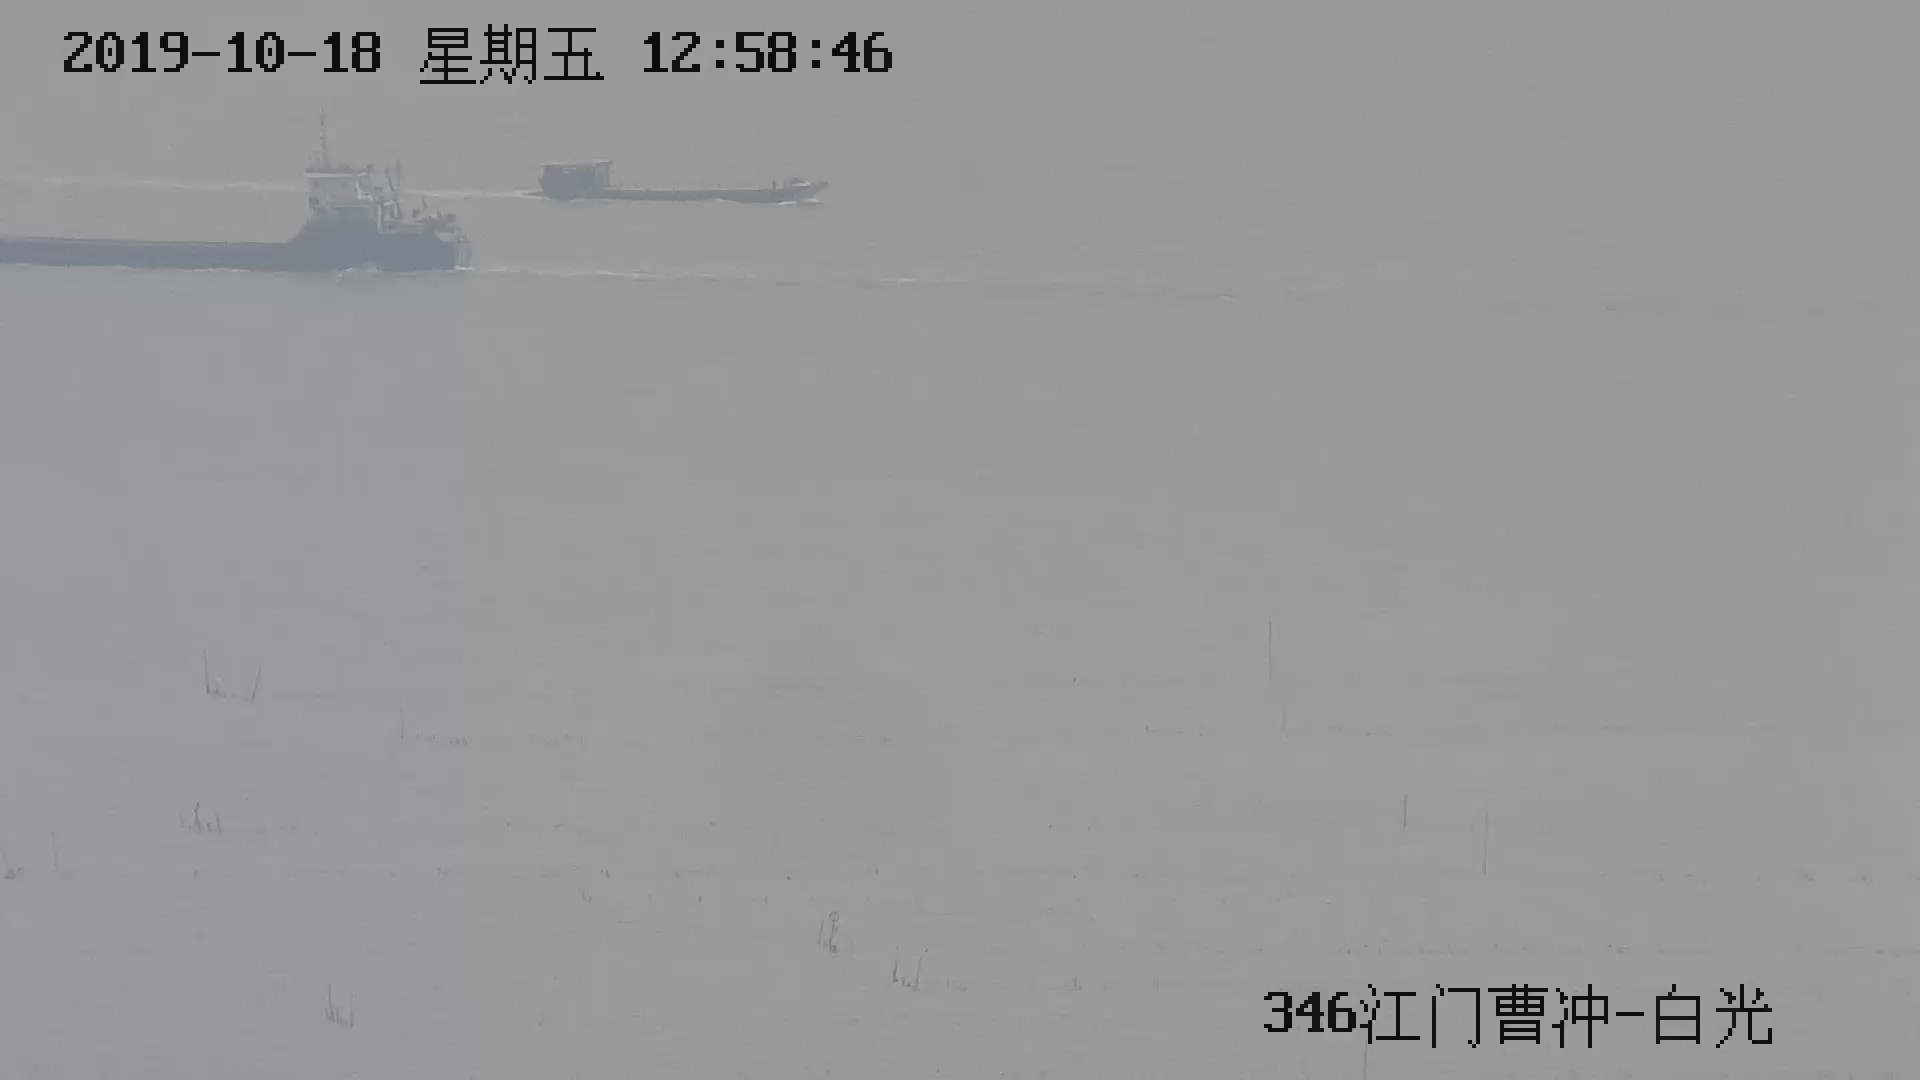ship: (1, 138, 467, 269), (527, 157, 828, 208)
